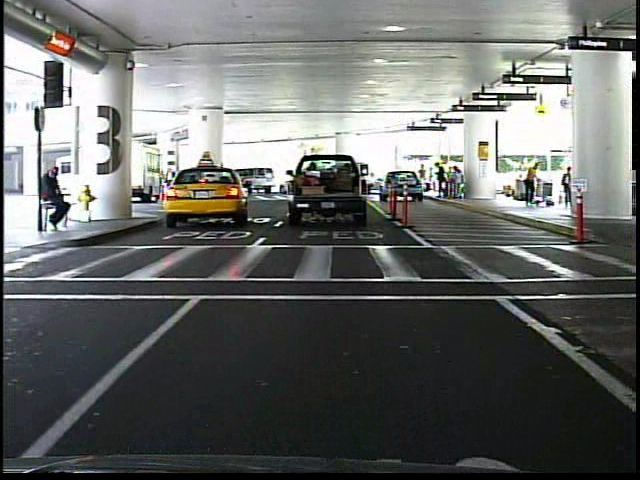person: (42, 160, 76, 231), (522, 158, 544, 210), (560, 161, 576, 212), (418, 161, 431, 196)
